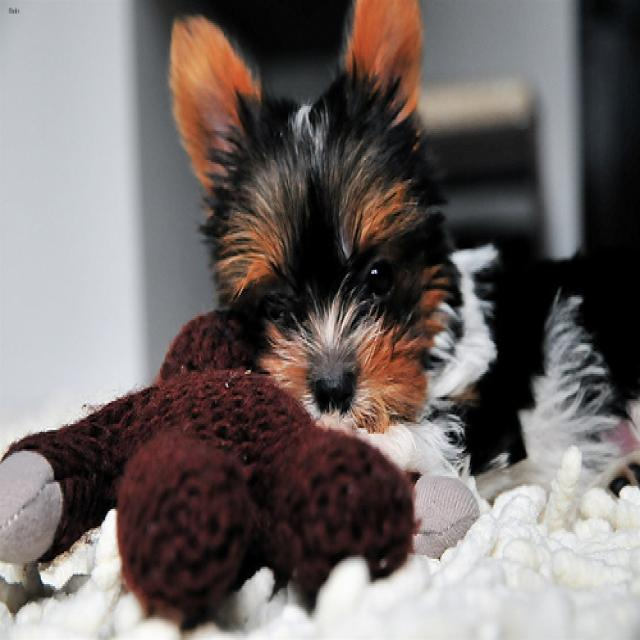dog-yorkshire_terrier: (163, 2, 622, 513)
